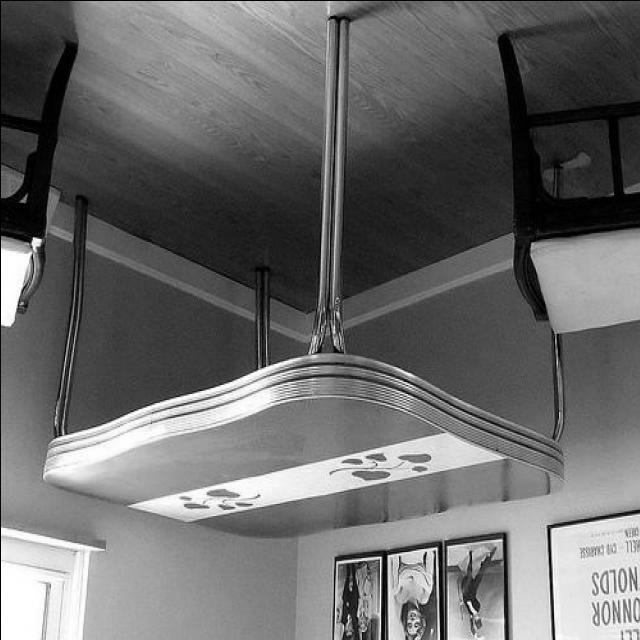table: (43, 18, 566, 542)
